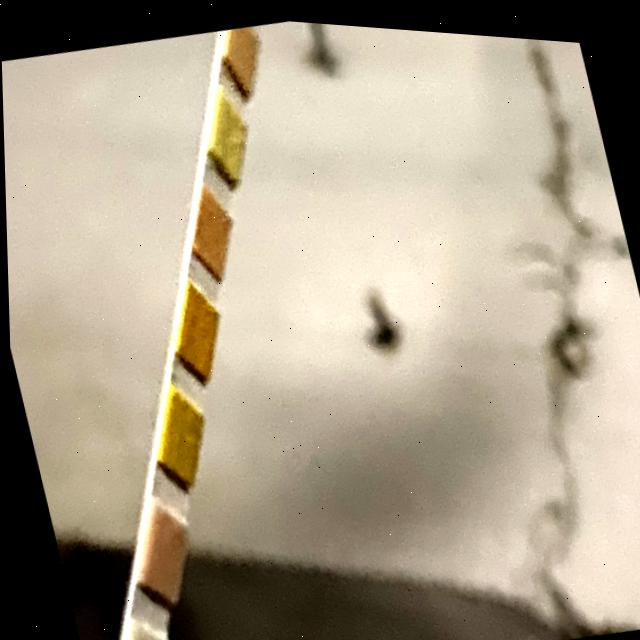Bilirubin: (118, 629, 155, 640)
Blood: (178, 299, 209, 349)
Ketone: (141, 521, 177, 583)
Protein: (210, 107, 244, 157)
SpGravity: (160, 402, 196, 462)
Urobilinogen: (227, 22, 256, 66)
pH: (196, 200, 225, 249)
